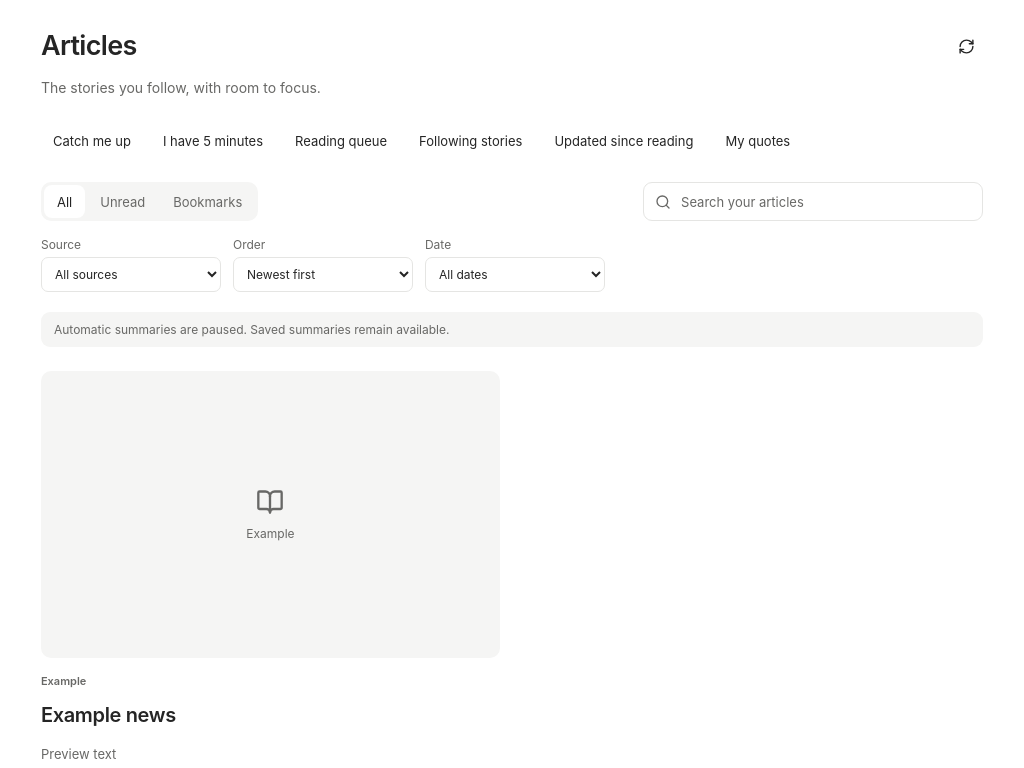
Test: renders cached full text without network recovery or waiting for related stories
Step 1. Click the button "Example news" → (108, 715), box [41, 699, 500, 733]
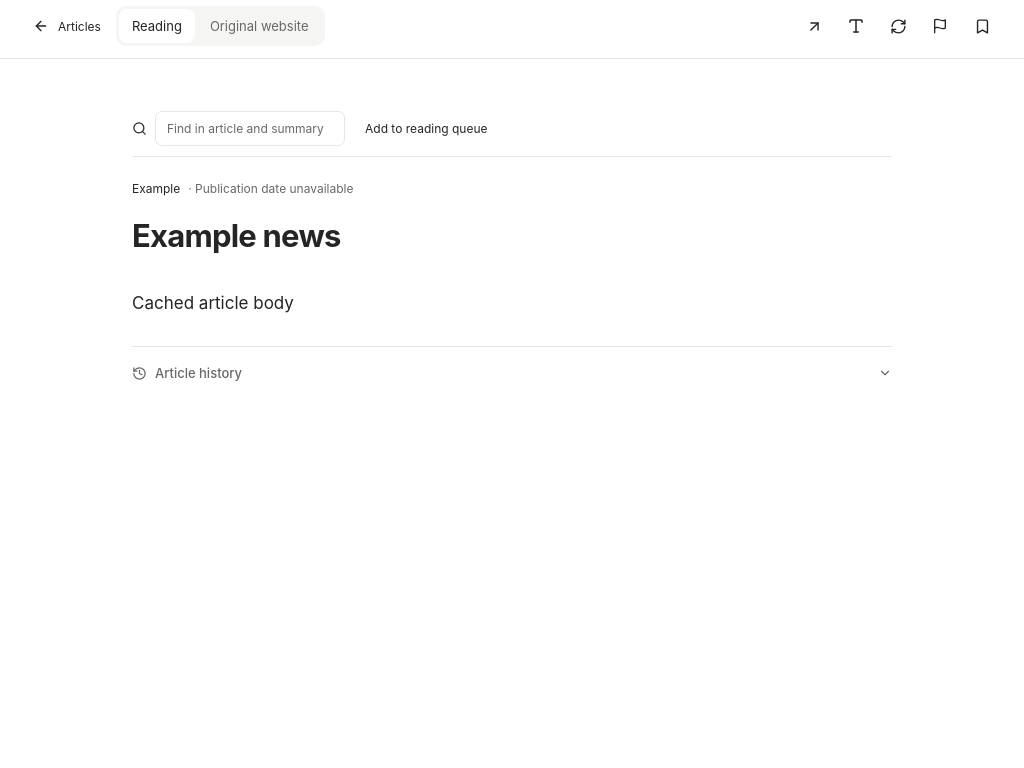
Expected: the text "Cached article body" is shown, [132, 293, 294, 313]
